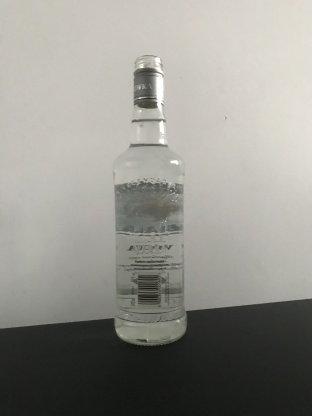nakretka: (131, 51, 165, 109)
